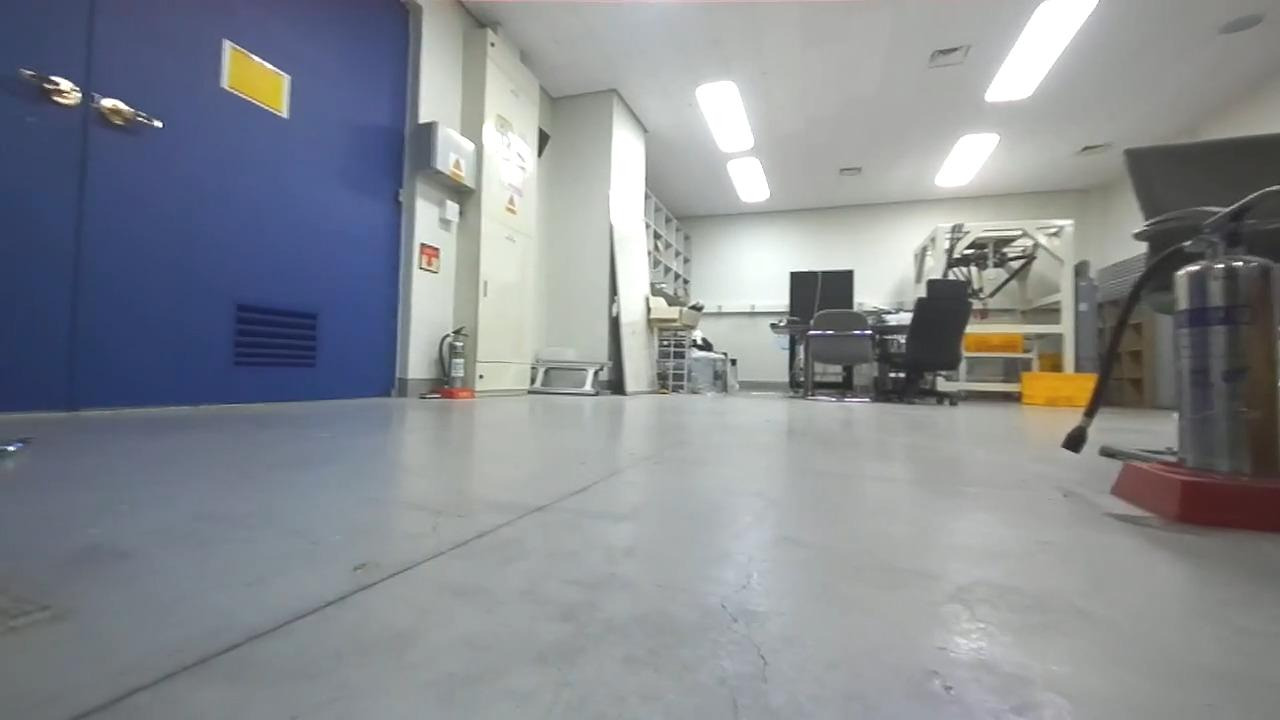crazyflie: (0, 433, 36, 477)
